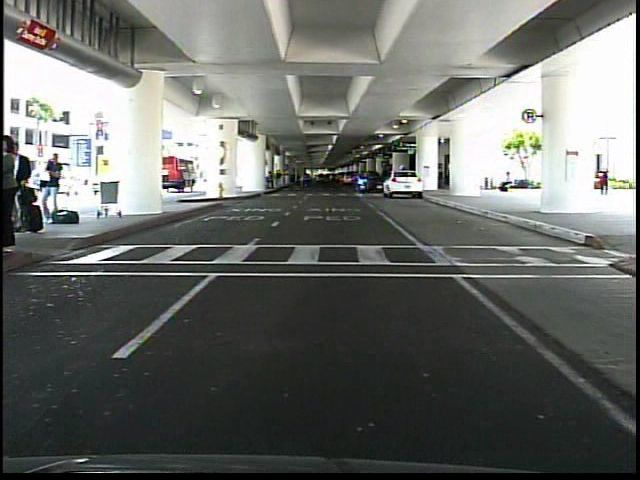person: (41, 148, 66, 224), (592, 163, 615, 203), (496, 166, 515, 198)
